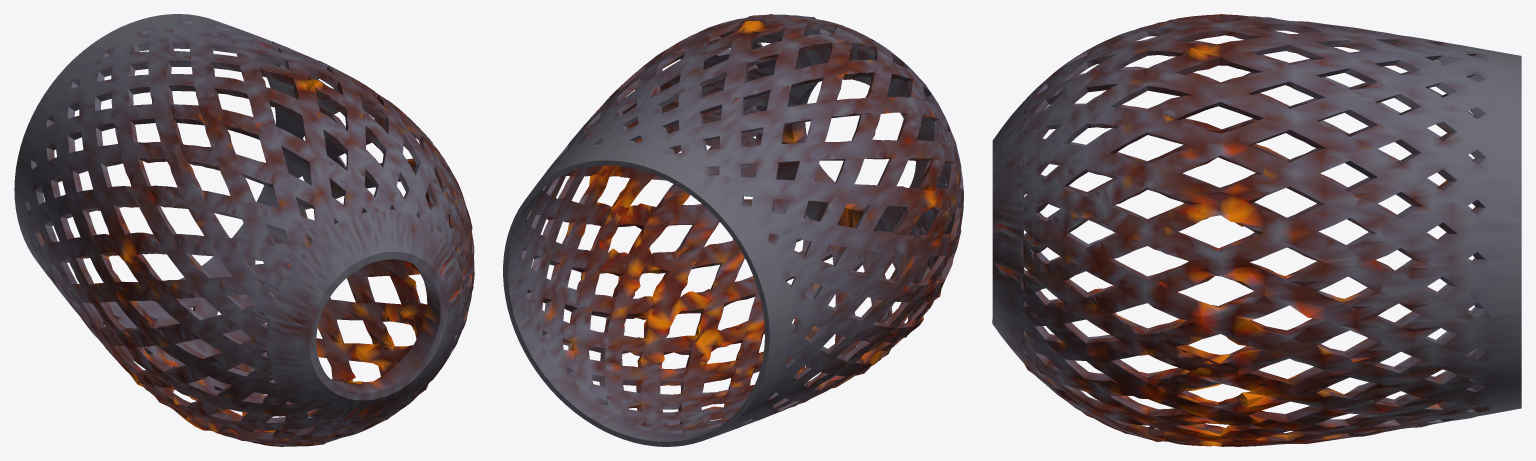
The model's file is lamp_shade_14_final300.obj.
3 renders of one model, left to right at view 1: azimuth 30°, elevation 25°; view 2: azimuth 150°, elevation 25°; view 3: azimuth 270°, elevation 25°, orthographic. The views are drawn at different scales.
Bounding box in the file's own units: 1.22 × 1.21 × 1.49.
